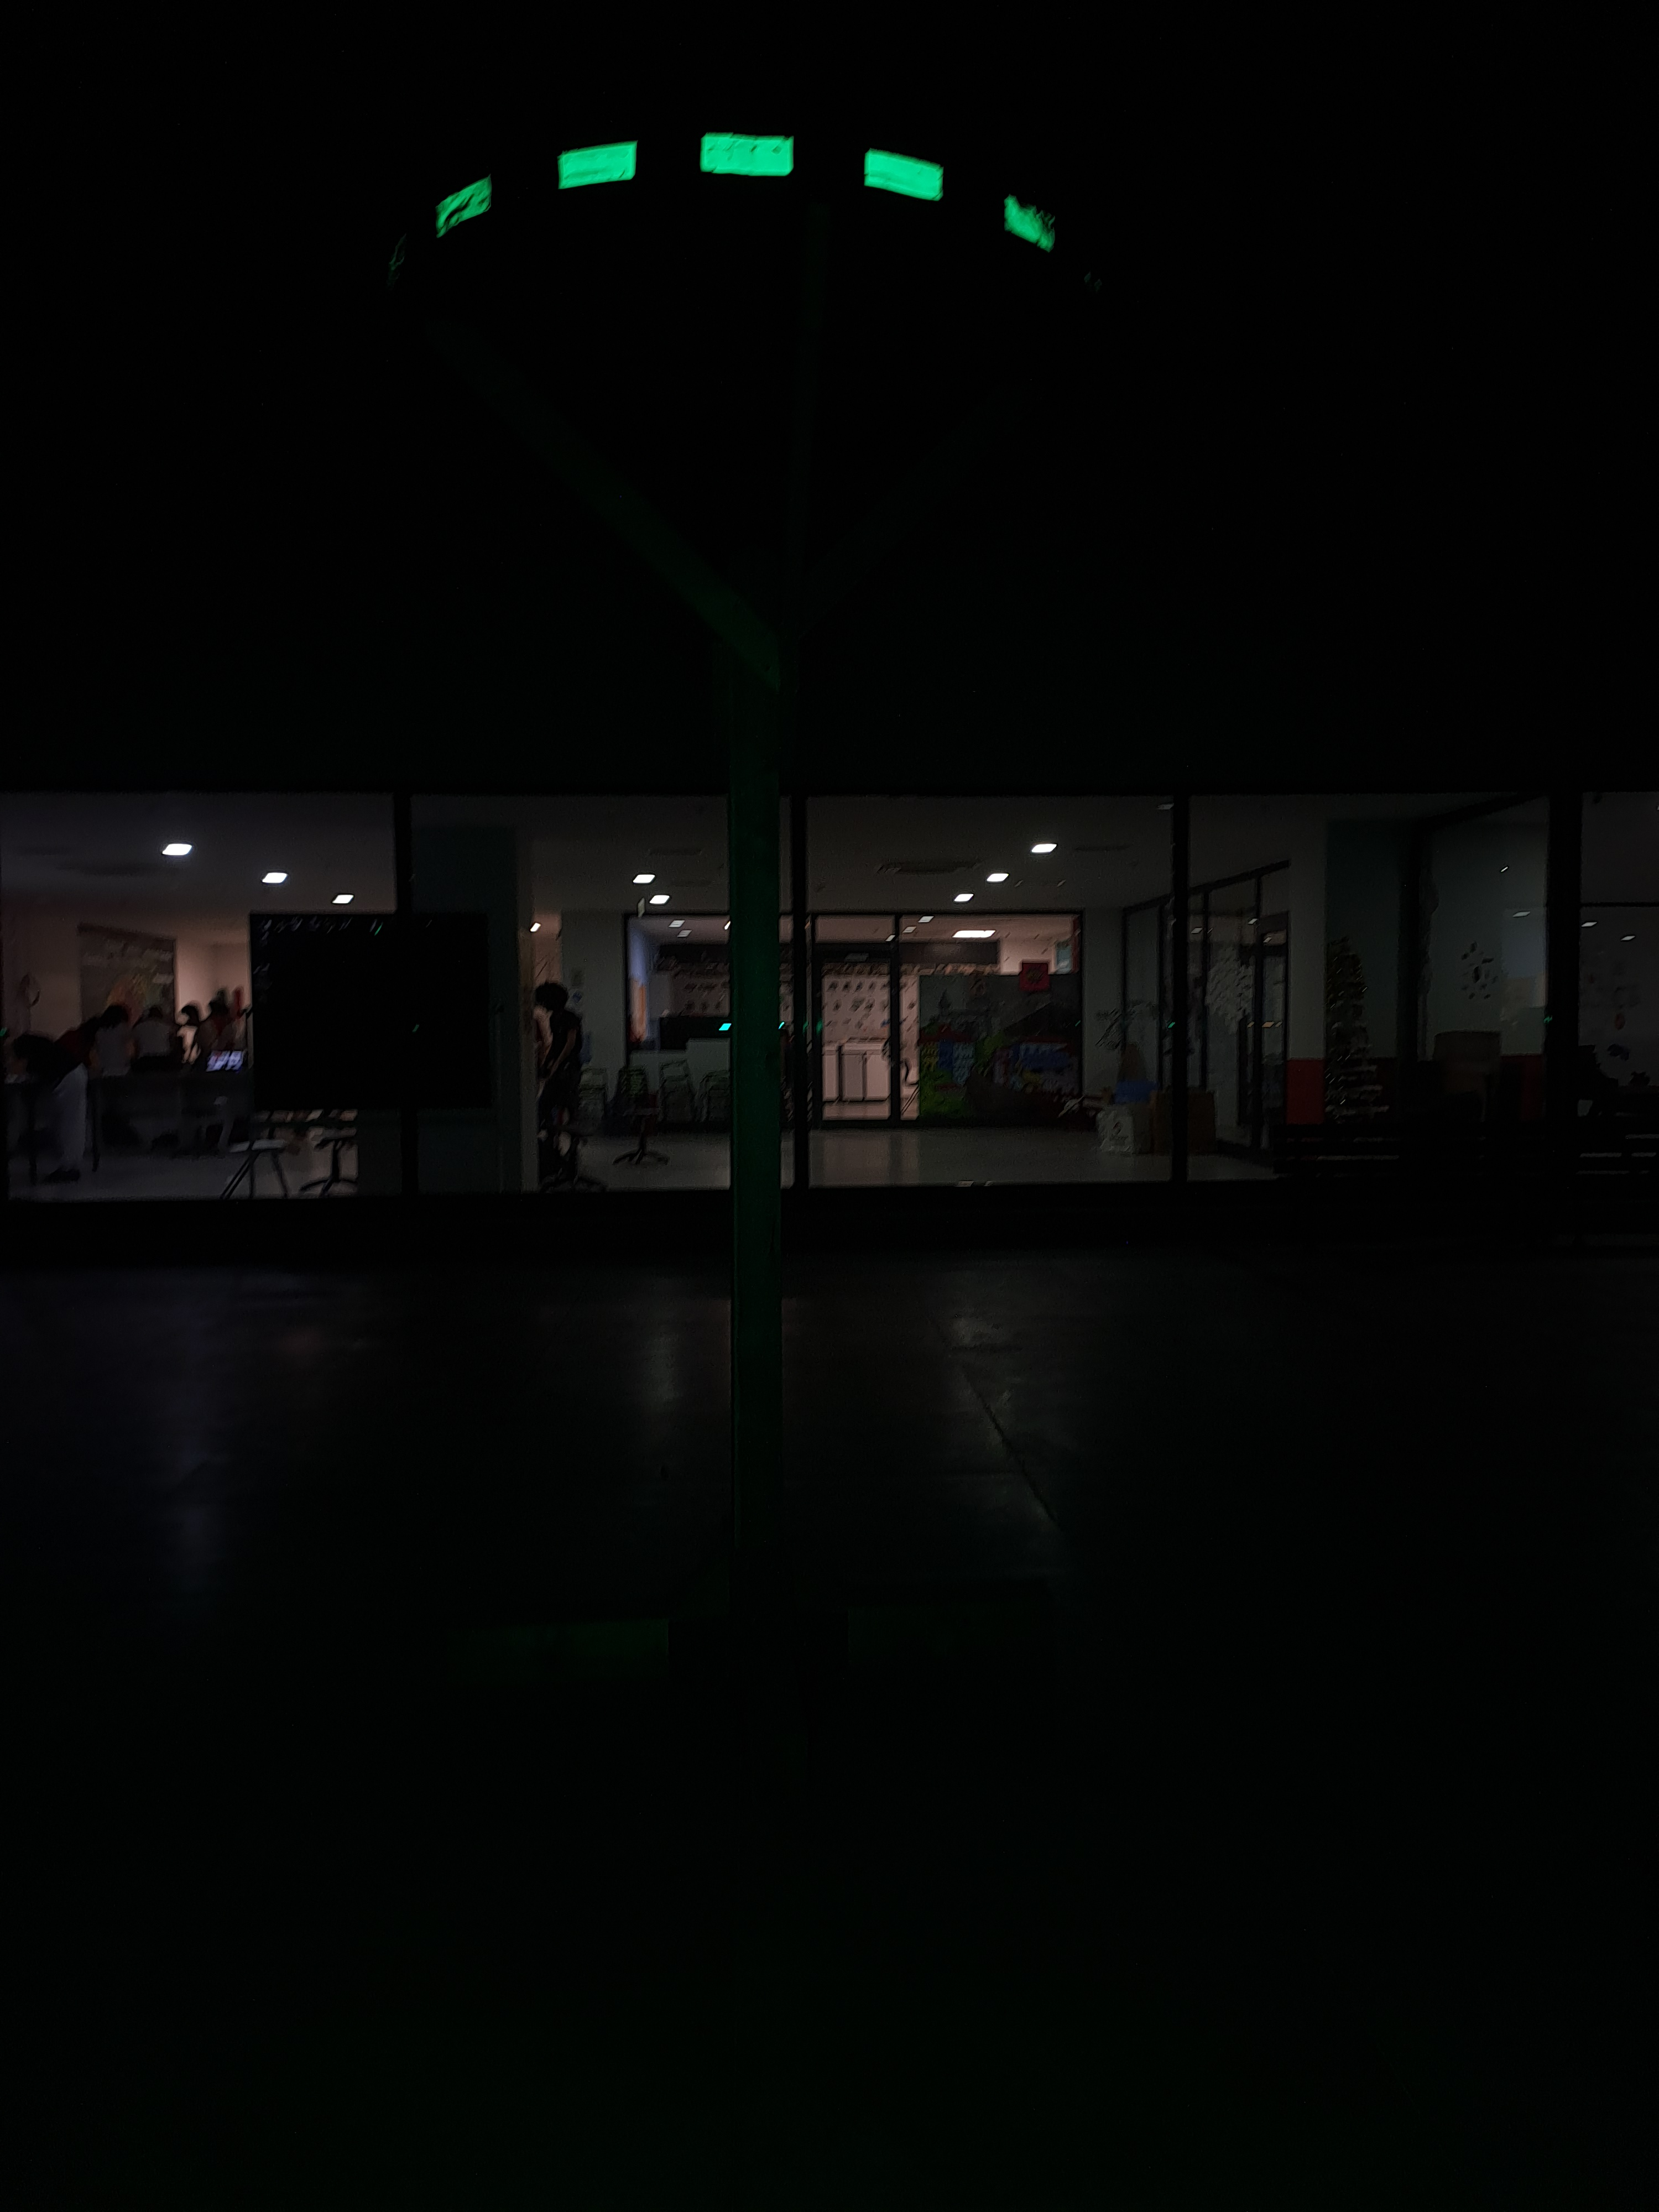hoop: (427, 127, 1058, 258)
